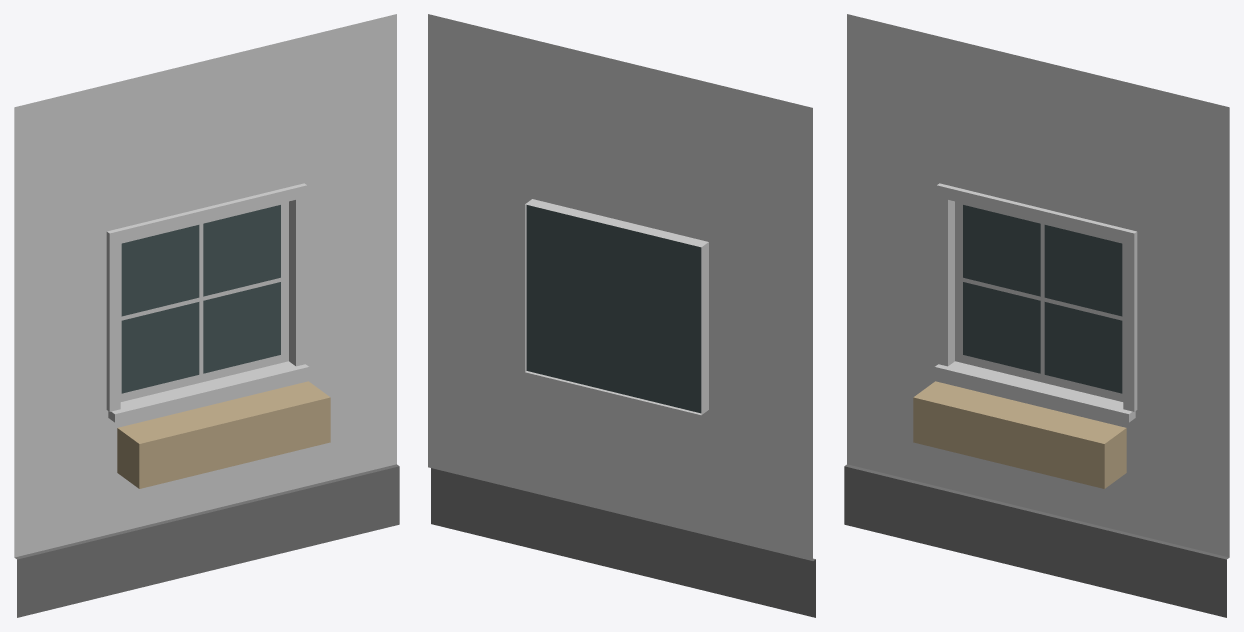
3 renders of one model, left to right at view 1: azimuth 30°, elevation 25°; view 2: azimuth 150°, elevation 25°; view 3: azimuth 330°, elevation 25°, orthographic.
Parts seen in each view (by area): view 1: a2015/200/base-w1; view 2: a2015/200/base-w1; view 3: a2015/200/base-w1.
Boxes of the visible parts, bbox=[...] form: a2015/200/base-w1: bbox=[14, 14, 399, 617]; a2015/200/base-w1: bbox=[428, 14, 815, 617]; a2015/200/base-w1: bbox=[844, 14, 1229, 617].
Size of the model in its own units: 2.4 by 3.05 by 0.4.
